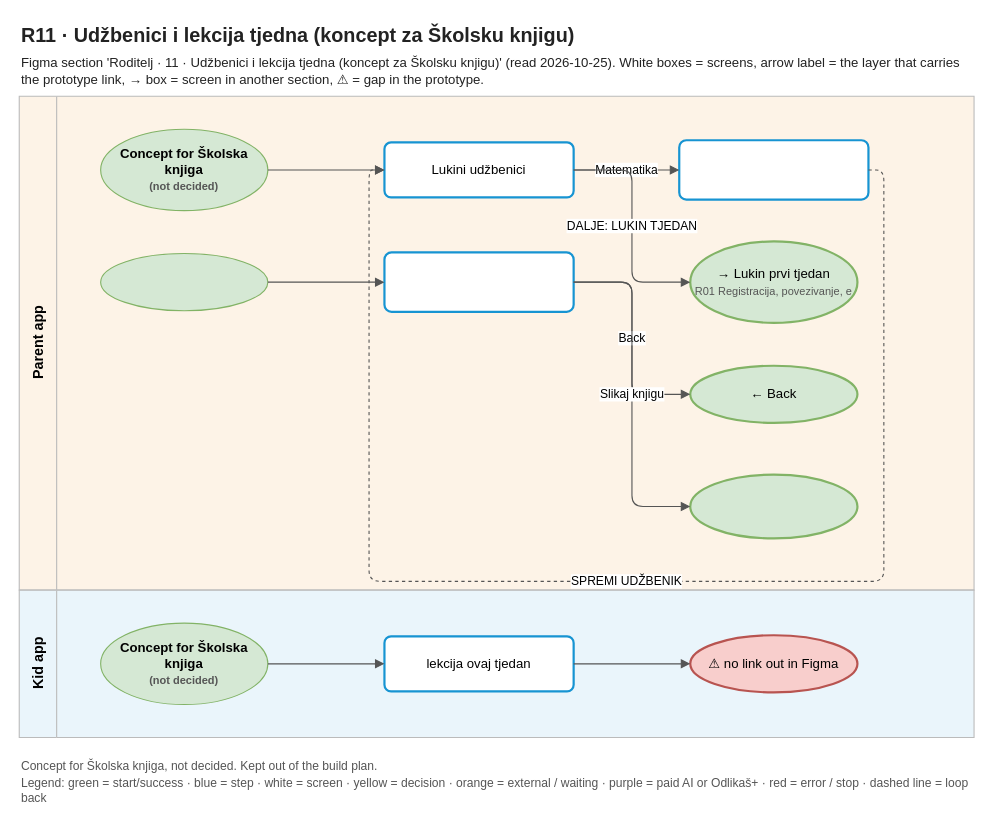
This 993x823 diagram has some shape labels left out. Here are the shapes that lost their labels. From the top down, the box of each, then its label:
(678, 139, 869, 200): odabir udžbenika (Matematika)
(100, 252, 268, 311): ⚠ no link leads here
(383, 251, 574, 312): tema za Luku (iz udžbenika)
(689, 473, 858, 539): → slikaj knjigu R02 Početna i zadaci
